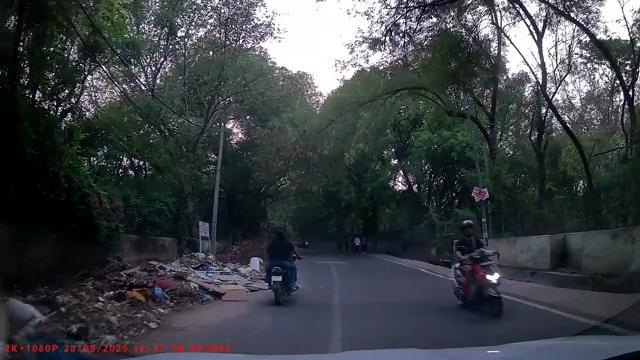motorcycle_with_helmet: (450, 218, 505, 319)
motorcycle_without_helmet: (263, 227, 301, 307)
